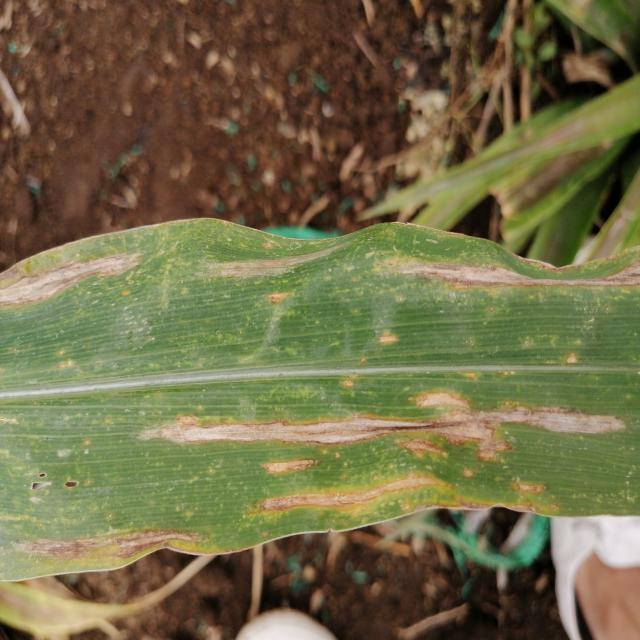Corn_Leaf_Blight: (0, 220, 640, 530)
